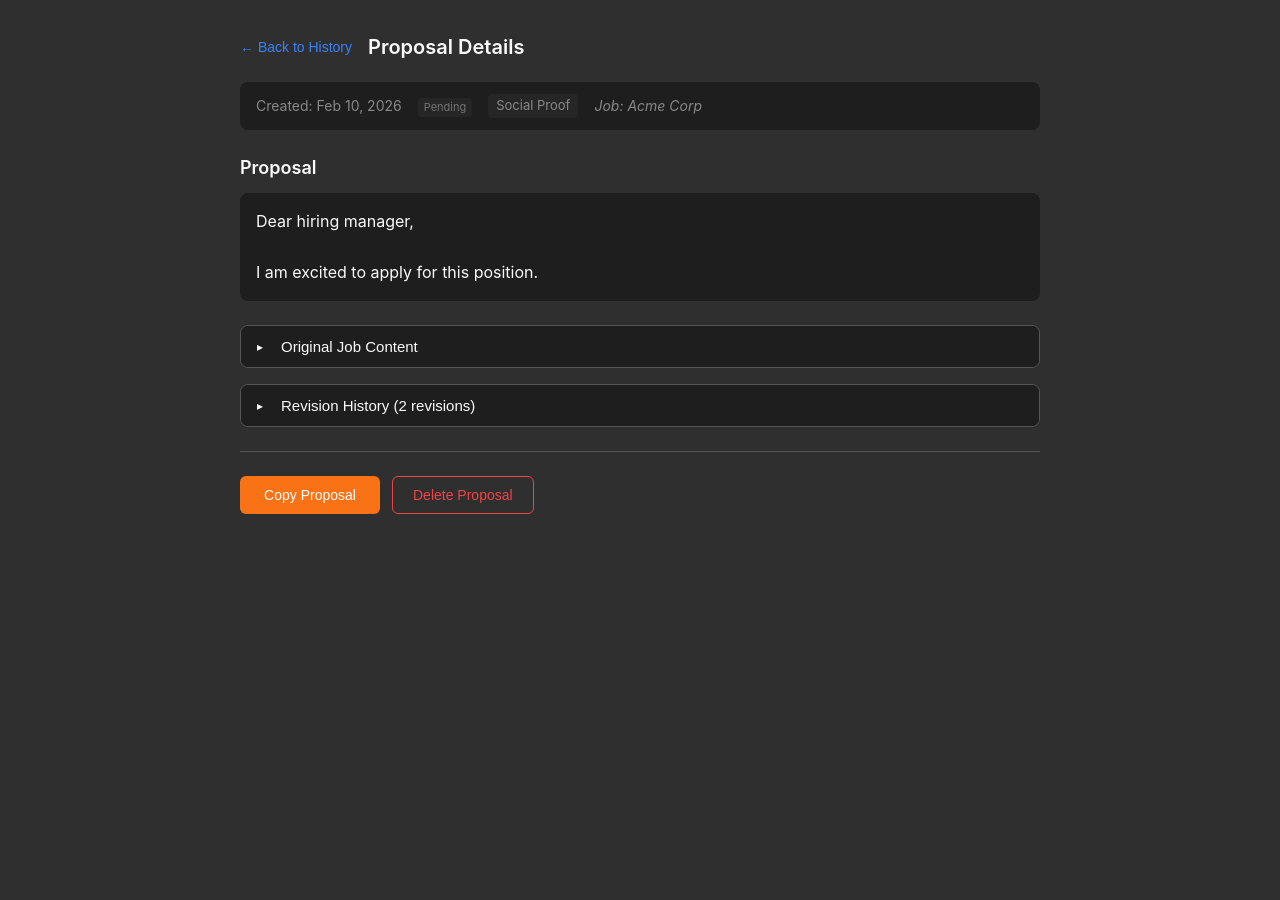
Test: ProposalDetailView › cancels delete dialog
Click the button "Delete Proposal".
click(463, 495)  # box 392,476 -> 534,514
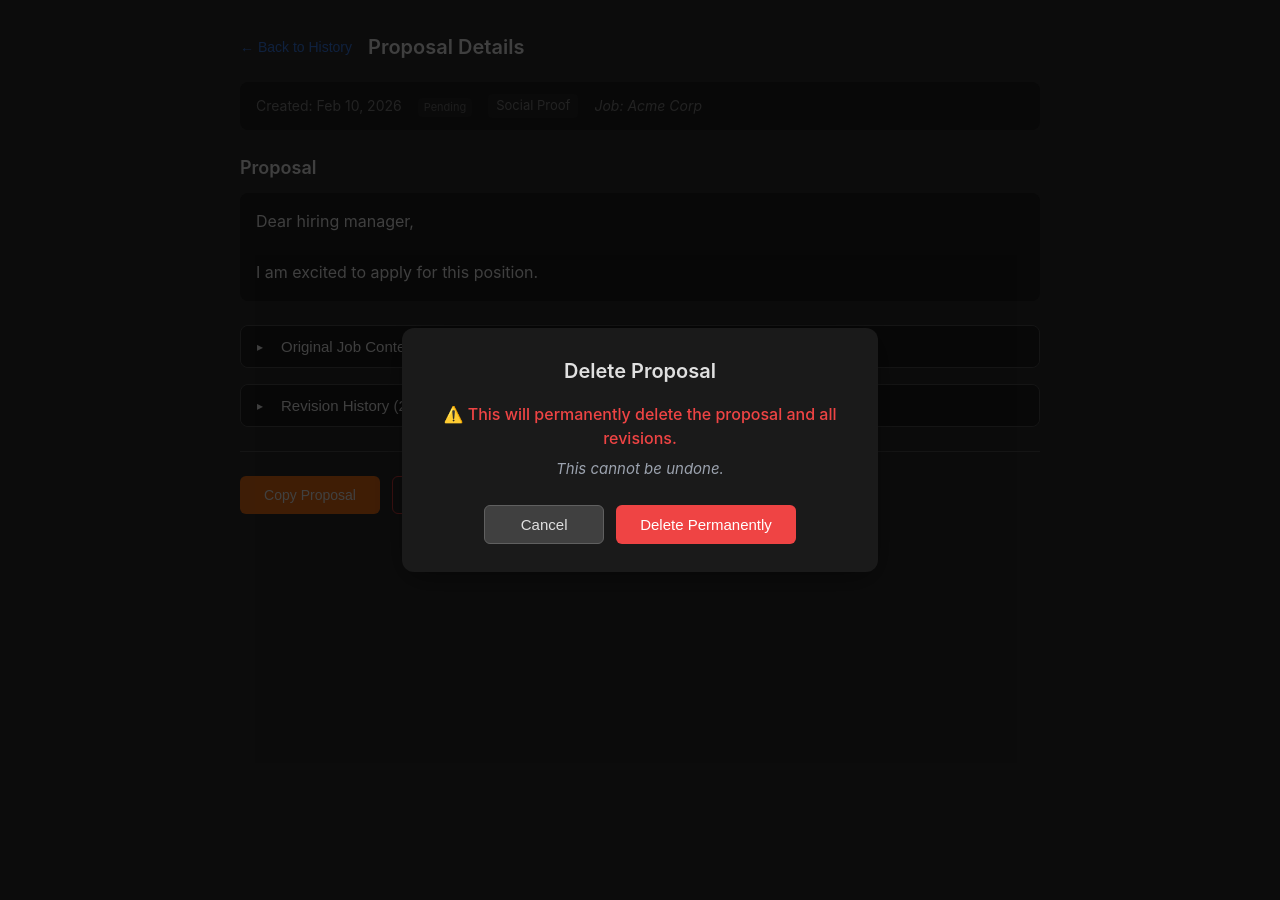
Click the button "Cancel".
click(544, 524)  # box 484,505 -> 604,544
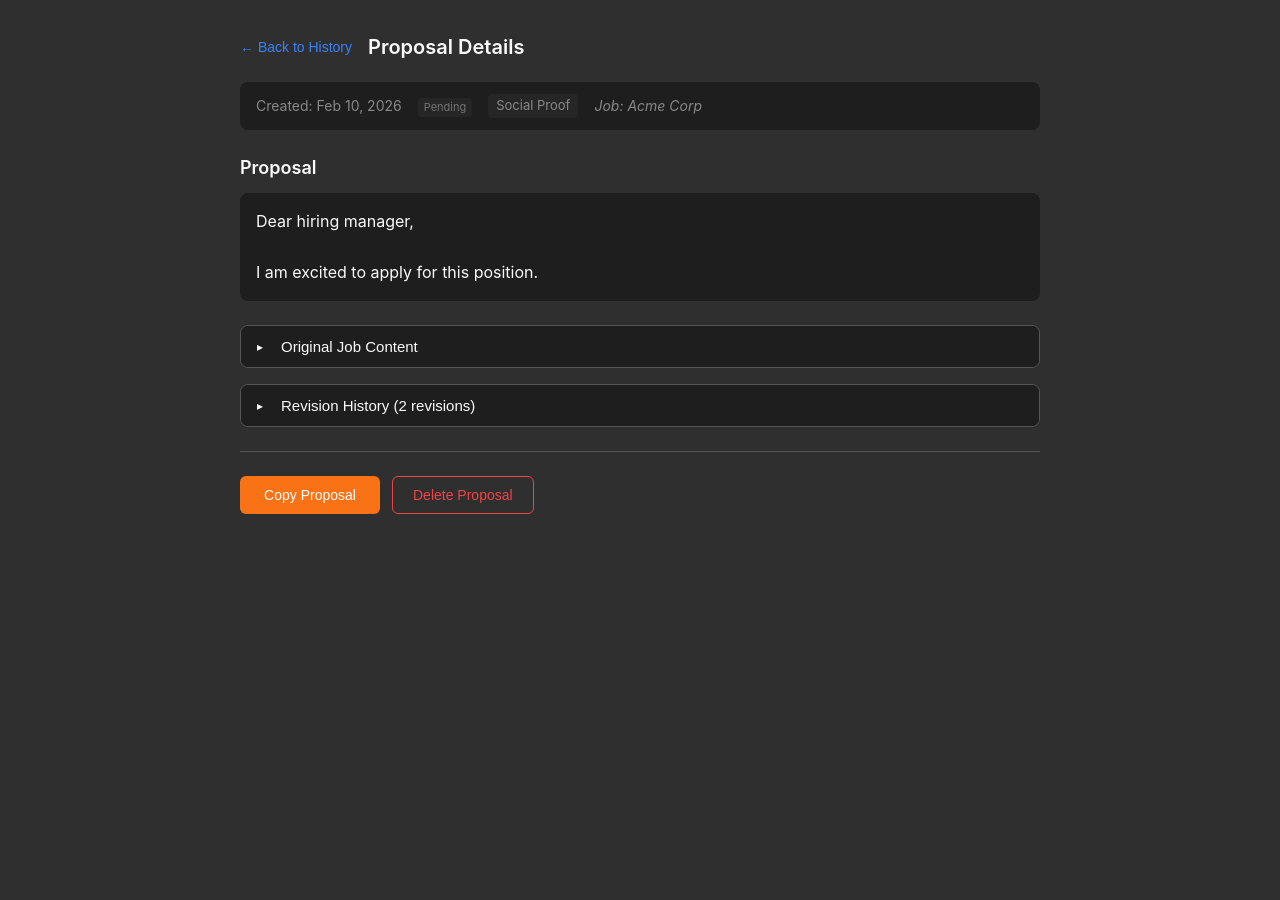
Expected: the button "Delete Permanently" is gone
